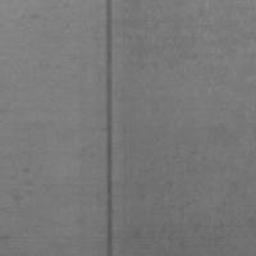Welding line: (105, 0, 114, 256)
